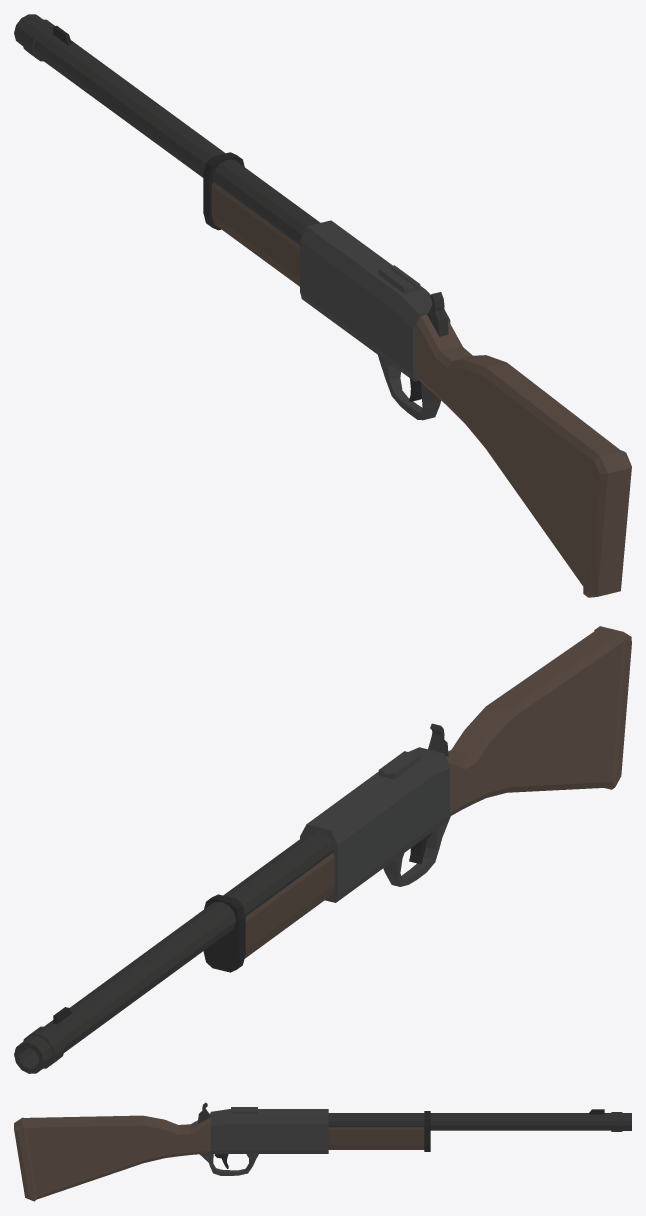
Rendered from shotgun-4.glb.
3 views of the same model, one above another, from view 1: azimuth 30°, elevation 25°; view 2: azimuth 150°, elevation 25°; view 3: azimuth 270°, elevation 25° (orthographic). The views are drawn at different scales.
Parts seen in each view (by area): view 1: Shotgun_4; view 2: Shotgun_4; view 3: Shotgun_4.
Part boxes in pixels (bbox=[...]): Shotgun_4: bbox=[14, 14, 631, 597]; Shotgun_4: bbox=[14, 626, 631, 1073]; Shotgun_4: bbox=[14, 1102, 631, 1201].
Bounding box in the file's own units: 0.0347 × 0.1616 × 0.95.
